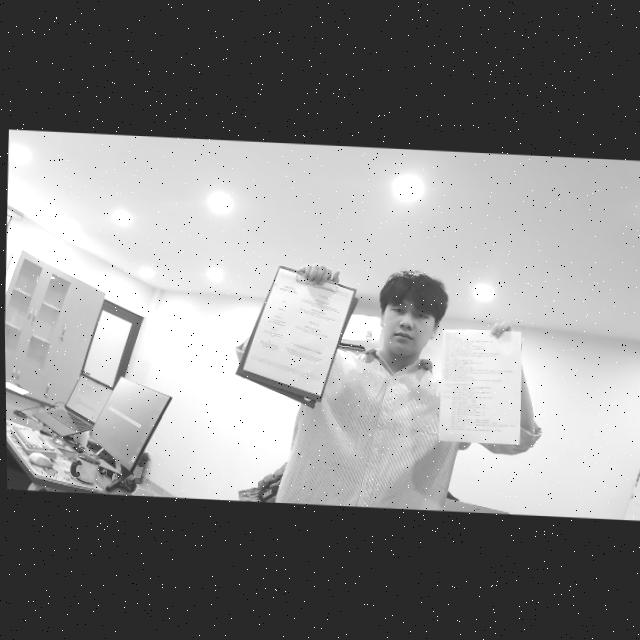document: (243, 268, 353, 395)
face: (377, 271, 443, 360)
